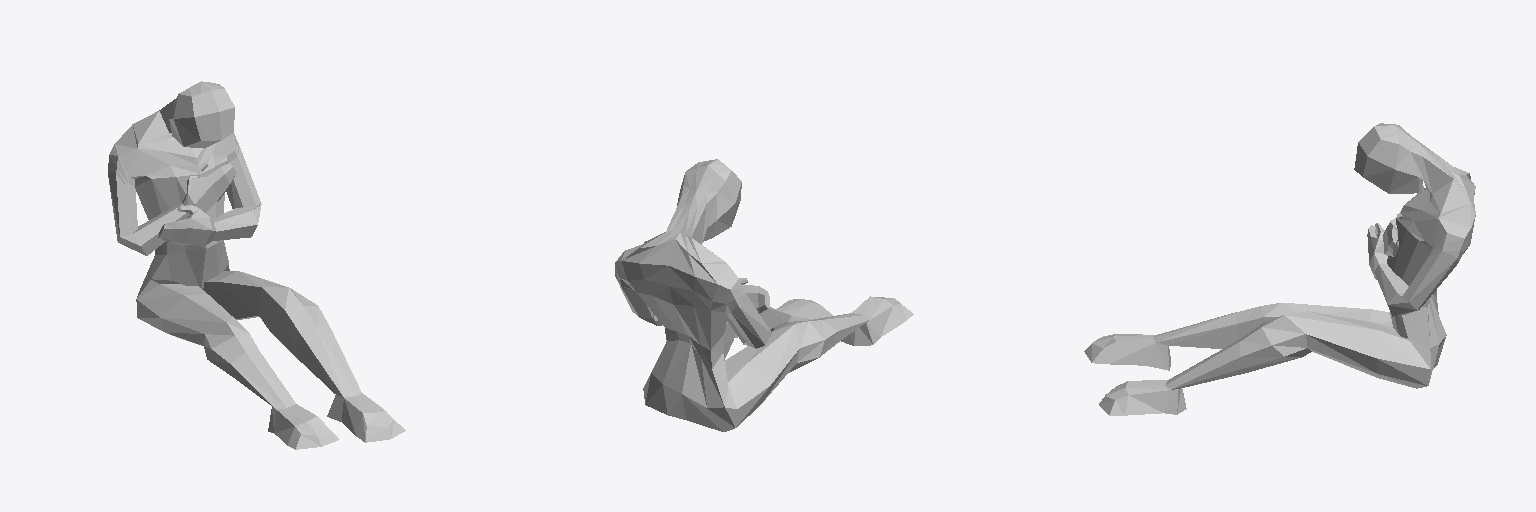
The model's file is dead_body.obj.
The picture shows the model from 3 angles: view 1: azimuth 30°, elevation 25°; view 2: azimuth 150°, elevation 25°; view 3: azimuth 270°, elevation 25°; orthographic projection.
Parts seen in each view (by area): view 1: standard; view 2: standard; view 3: standard.
Part boxes in pixels (x1,y1,x2,y2): standard: (108, 81, 405, 449); standard: (615, 159, 913, 431); standard: (1084, 123, 1475, 415).
Bounding box in the file's own units: 1.01 × 1.82 × 2.44.